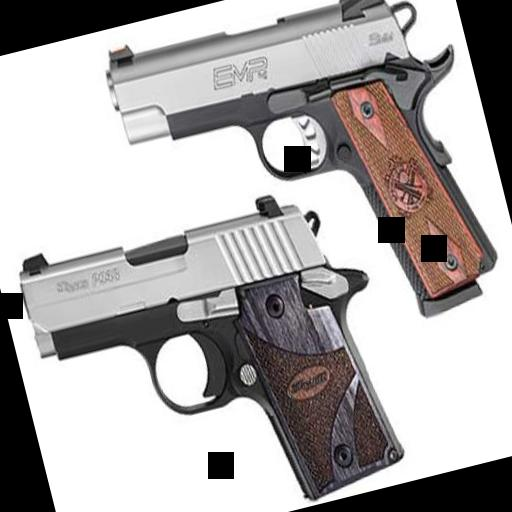Handgun: (88, 0, 508, 378), (5, 176, 421, 512)
